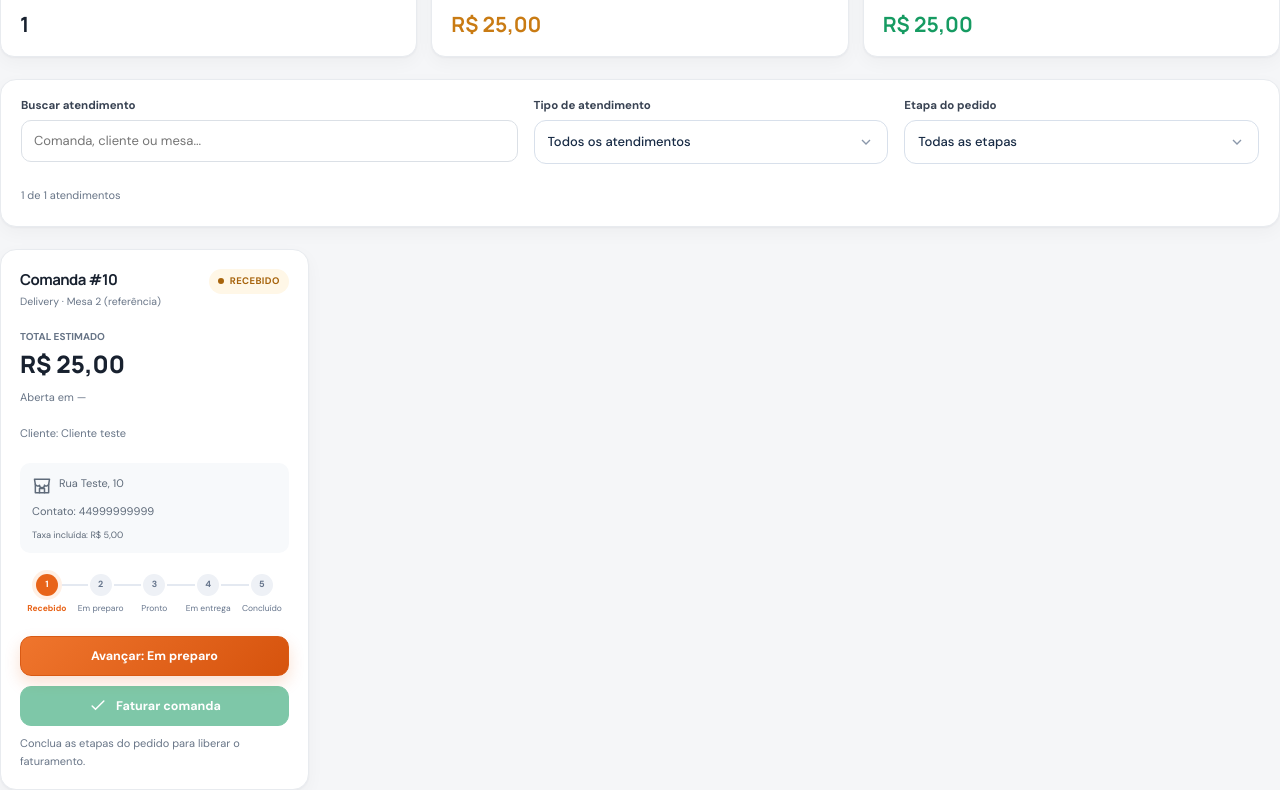
Scenario: avança etapa pela API e atualiza a próxima ação
(page scrolled)
Expected: the heading "Comanda #10" is shown, [20,269,117,290]
Click the button "Avançar: Em preparo" at (154, 656), box [20,636,289,676]
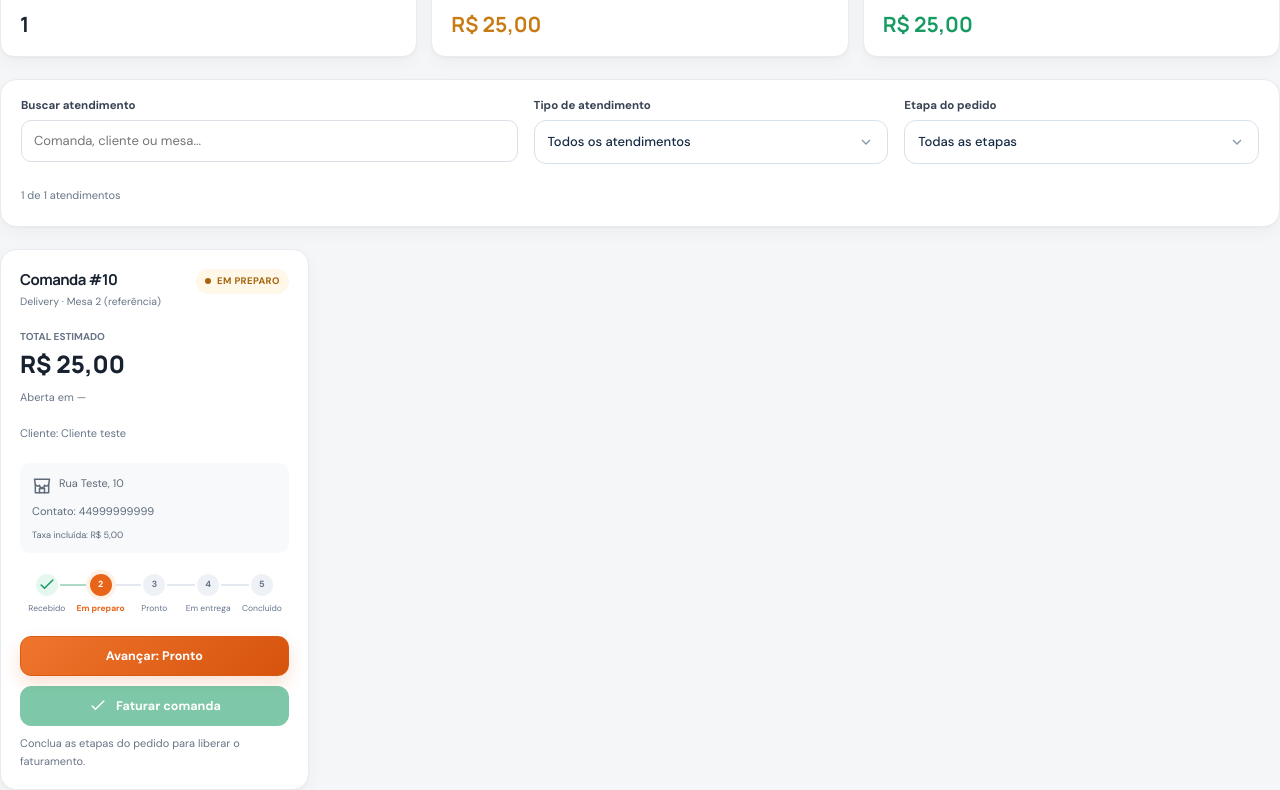
Expected: the button "Avançar: Pronto" is shown, [20,636,289,676]
